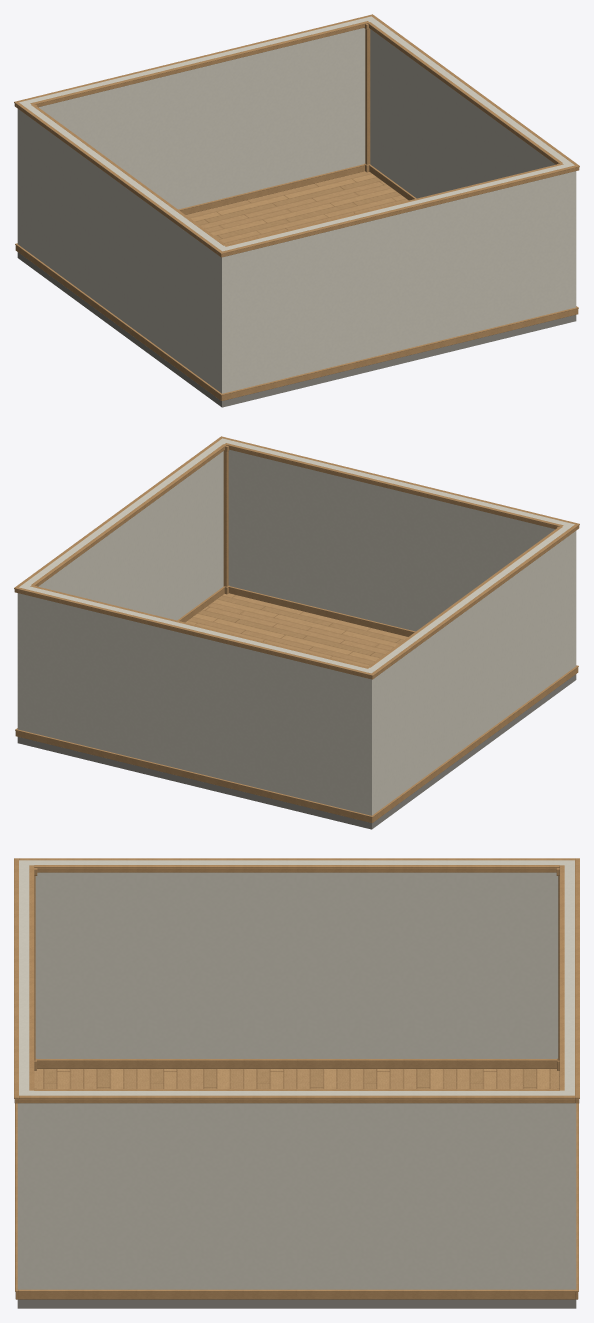
The model's file is hub.glb.
The picture shows the model from 3 angles, top to bottom: view 1: azimuth 30°, elevation 25°; view 2: azimuth 150°, elevation 25°; view 3: azimuth 270°, elevation 25°; orthographic projection. The views are drawn at different scales.
Parts seen in each view (by area): view 1: Wall_Upper (×4), Wall_Lower (×4), Trim_Upper (×4), Floor, Trim_Lower (×3), Wall_Foundation (×2), Oak_Column; view 2: Wall_Upper (×4), Wall_Lower (×4), Trim_Upper (×4), Floor, Trim_Lower (×3), Wall_Foundation (×2), Oak_Column; view 3: Wall_Upper (×4), Wall_Lower (×2), Trim_Upper (×4), Trim_Lower (×4), Floor, Wall_Foundation.
Part boxes in pixels (<box>): Wall_Upper (×4): <box>17,16,576,367</box>; Wall_Lower (×4): <box>17,138,576,393</box>; Trim_Upper (×4): <box>14,14,579,257</box>; Floor: <box>186,171,408,244</box>; Trim_Lower (×3): <box>15,164,578,400</box>; Wall_Foundation (×2): <box>22,255,576,407</box>; Oak_Column: <box>365,29,370,164</box>; Wall_Upper (×4): <box>17,438,576,789</box>; Wall_Lower (×4): <box>17,560,576,815</box>; Trim_Upper (×4): <box>14,436,579,679</box>; Floor: <box>185,593,407,666</box>; Trim_Lower (×3): <box>15,586,578,822</box>; Wall_Foundation (×2): <box>17,677,571,829</box>; Oak_Column: <box>223,451,228,586</box>; Wall_Upper (×4): <box>17,860,576,1254</box>; Wall_Lower (×2): <box>30,1023,563,1289</box>; Trim_Upper (×4): <box>14,858,579,1103</box>; Trim_Lower (×4): <box>15,1059,578,1299</box>; Floor: <box>34,1069,559,1088</box>; Wall_Foundation: <box>30,1299,563,1308</box>.
Bounding box in the file's own units: 10.62 × 4.4 × 10.62.
Materials: 4 (3 with a texture image).
